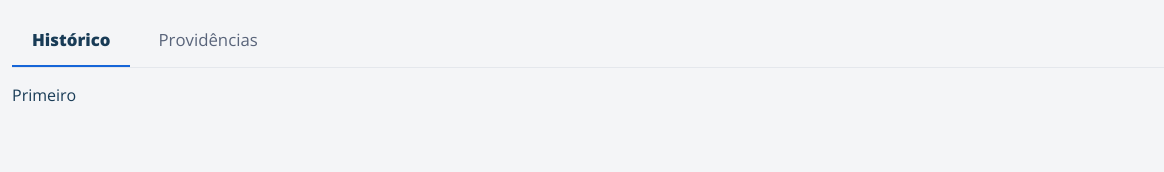
Test: navega pelas abas com setas e associa o painel
Later steps or results of the test are not shown.
Click the tab "Histórico" at (71, 40), box [12,12,130,67]
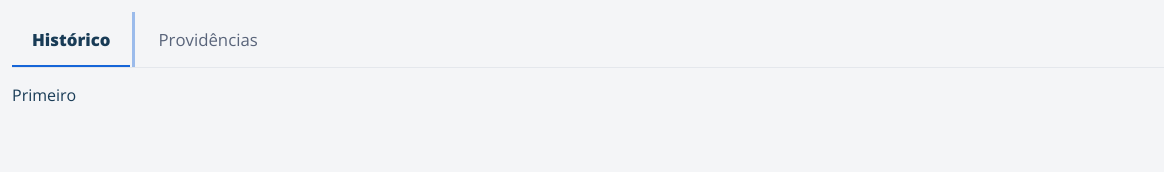
Press Arrowright
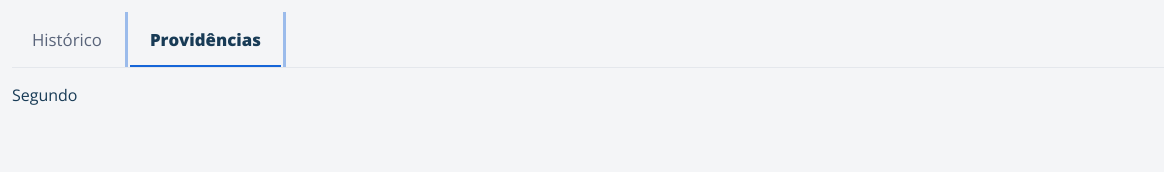
Check: the tab "Providências" is selected, box [130,12,281,67]
